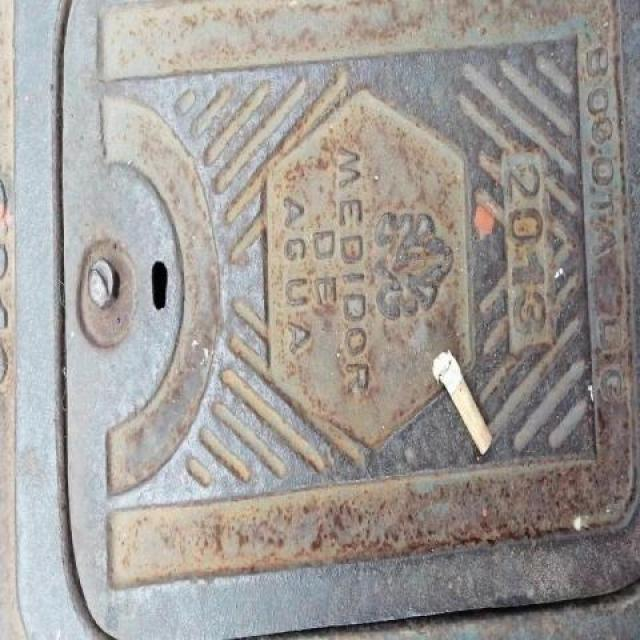non-organic waste: (432, 348, 495, 459)
